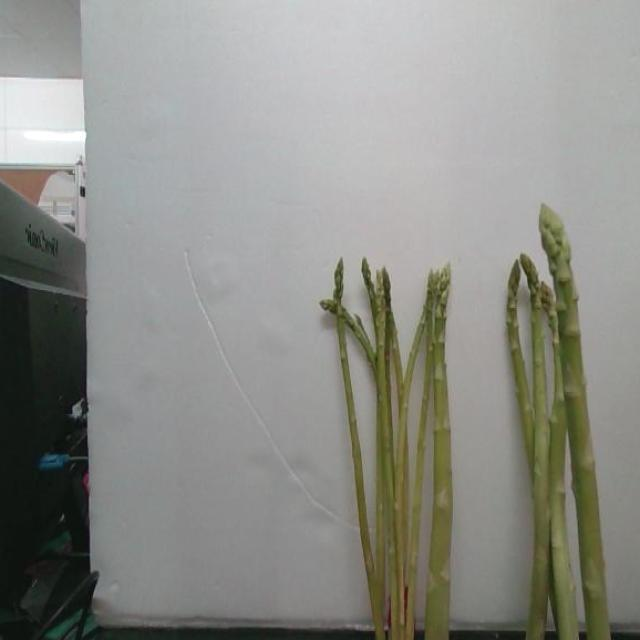aspargus: (539, 201, 609, 640)
